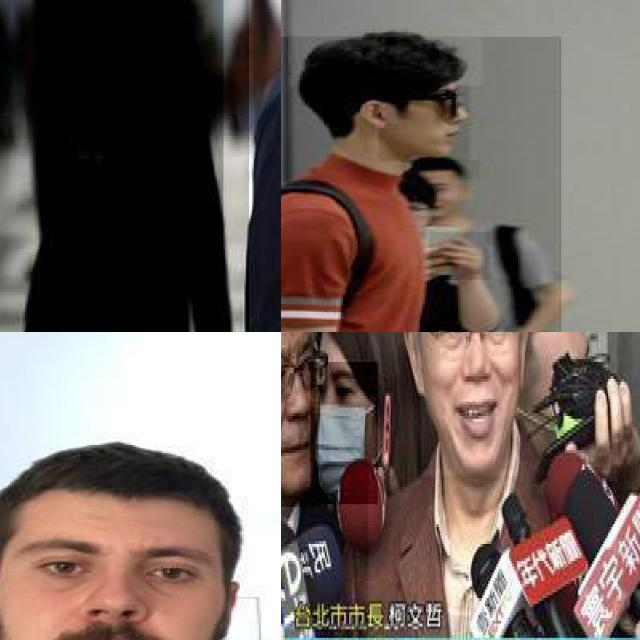No_Ear-Protection: (398, 332, 427, 401), (355, 98, 393, 130)
No_Glasses: (15, 522, 228, 614)
face_mask: (310, 362, 380, 507)
face_nomask: (0, 521, 222, 640), (421, 332, 520, 478), (379, 85, 470, 162), (281, 332, 315, 507), (408, 179, 465, 219)
glasses: (281, 347, 319, 404), (433, 332, 520, 356)
hand_noglove: (430, 232, 490, 280)
head_nohelmet: (0, 443, 233, 520), (288, 37, 482, 86), (313, 332, 403, 356), (400, 160, 480, 179)
person: (281, 36, 563, 332), (368, 332, 619, 640), (39, 0, 224, 332), (0, 438, 281, 640)
